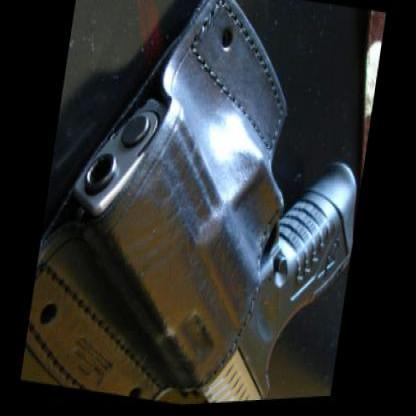pistol: (46, 67, 372, 412)
